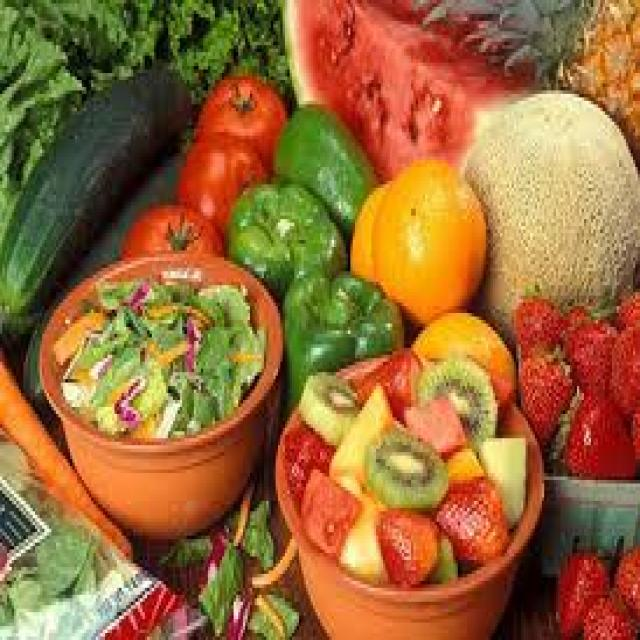organic waste: (0, 59, 187, 341), (278, 0, 547, 174), (462, 83, 638, 344), (21, 142, 178, 421), (0, 0, 161, 257), (0, 344, 128, 556), (369, 153, 486, 320), (280, 268, 400, 417), (411, 0, 593, 80), (542, 0, 638, 150), (224, 178, 346, 286), (268, 101, 374, 219), (161, 0, 289, 97), (411, 306, 514, 407), (52, 306, 190, 379), (189, 70, 285, 167), (180, 129, 266, 233), (187, 282, 264, 389), (362, 424, 446, 515), (556, 386, 633, 477), (432, 476, 507, 567), (325, 379, 390, 484), (418, 355, 498, 438), (58, 365, 238, 400), (299, 462, 357, 556), (94, 275, 196, 327), (551, 536, 605, 633), (369, 504, 435, 581), (476, 428, 526, 529), (121, 205, 222, 254), (516, 348, 568, 442), (346, 177, 394, 275), (280, 418, 330, 512), (297, 368, 355, 442), (196, 539, 245, 626), (355, 348, 416, 417), (336, 508, 388, 581), (402, 393, 462, 456), (565, 313, 612, 390), (512, 278, 560, 348), (600, 320, 638, 407), (227, 504, 280, 564), (35, 526, 86, 584), (240, 584, 296, 636), (579, 588, 638, 636), (607, 536, 638, 622), (91, 404, 213, 424), (554, 299, 591, 362), (252, 539, 297, 584), (439, 442, 486, 476), (224, 581, 255, 629), (427, 529, 458, 577), (233, 484, 254, 546), (159, 536, 210, 560), (610, 289, 638, 327), (9, 574, 40, 605), (628, 393, 638, 466)
